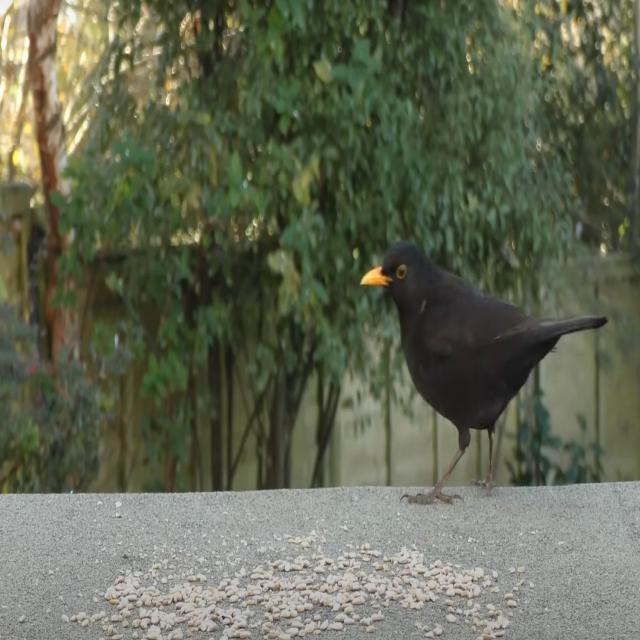beak: (357, 256, 390, 294)
bird: (356, 236, 612, 512)
